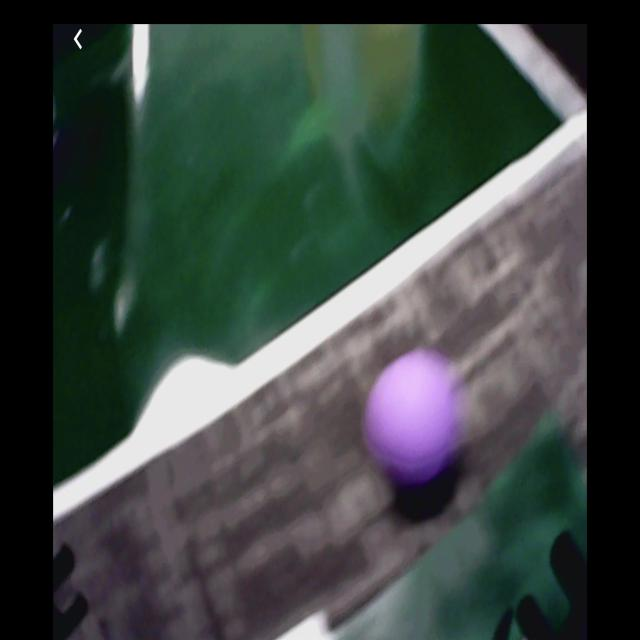ball: (364, 353, 461, 494)
